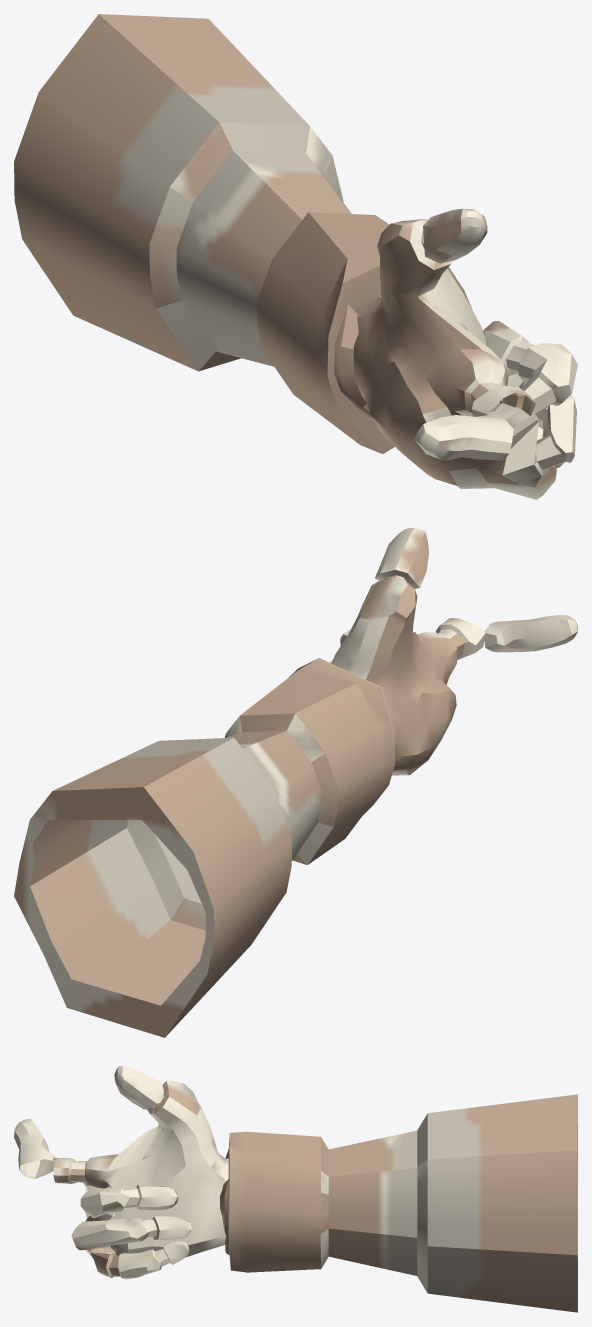
The model's file is RobotArm_GEO.fbx.
The picture shows the model from 3 angles, top to bottom: view 1: azimuth 30°, elevation 25°; view 2: azimuth 150°, elevation 25°; view 3: azimuth 270°, elevation 25°; orthographic projection. The views are drawn at different scales.
Visible parts, largest first — view 1: Arm; view 2: Arm; view 3: Arm.
Part boxes in pixels (x1,y1,x2,y2): Arm: (14, 14, 577, 499); Arm: (14, 528, 577, 1037); Arm: (14, 1066, 577, 1312).
Bounding box in the file's own units: 10 × 12.93 × 29.03.
1 material, 1 textured.
